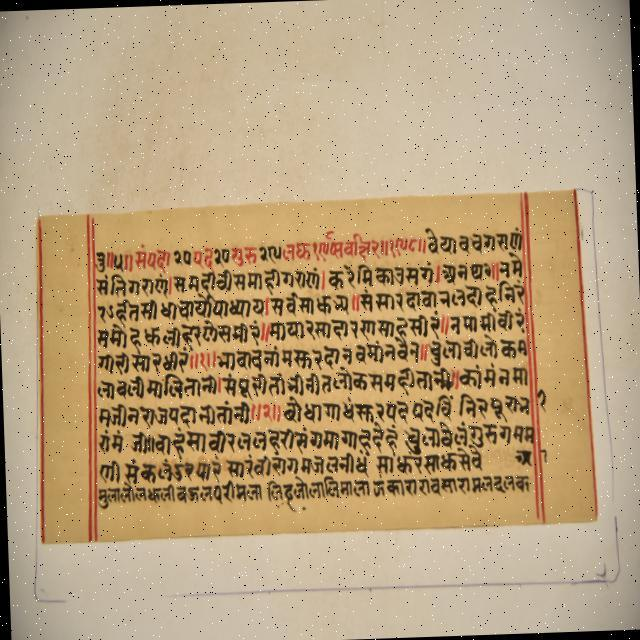text_paragraph: (37, 188, 597, 542)
